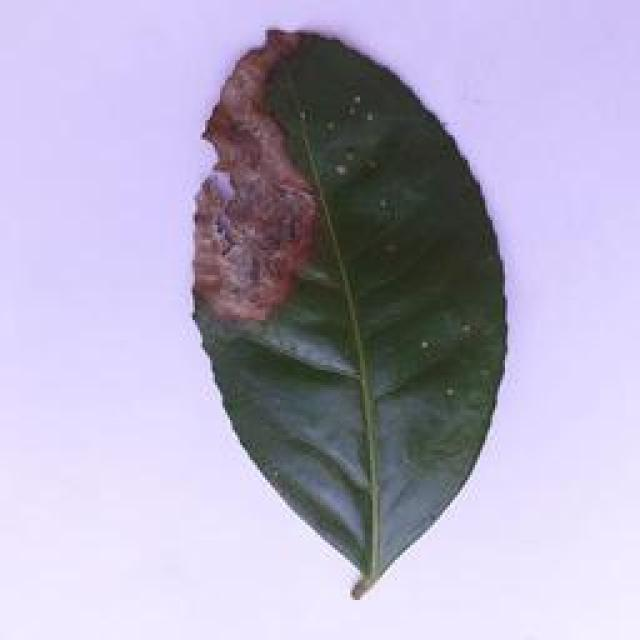Gray Blight: (185, 23, 510, 603)
